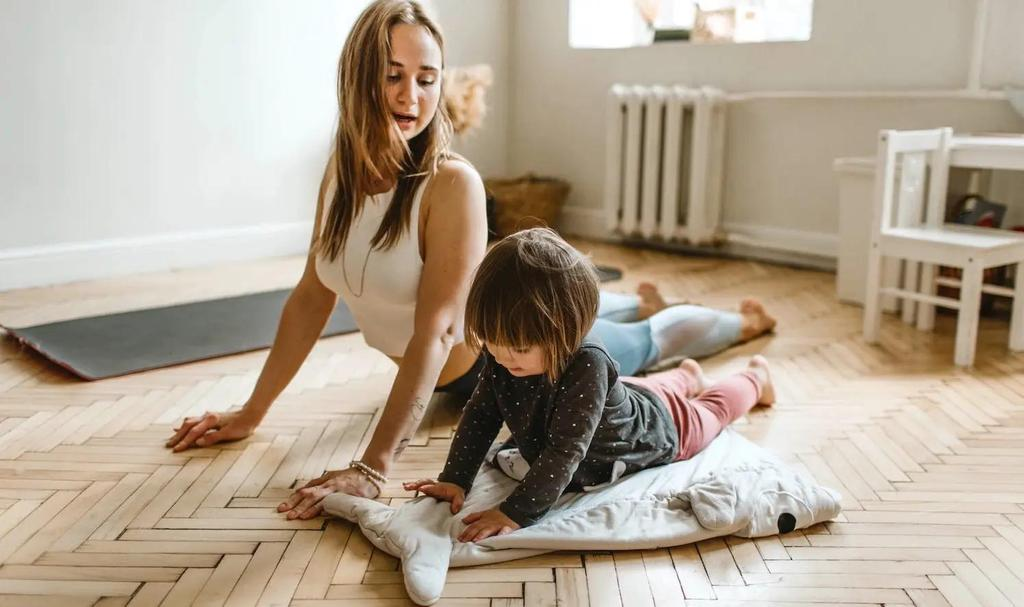child: (404, 217, 793, 542)
